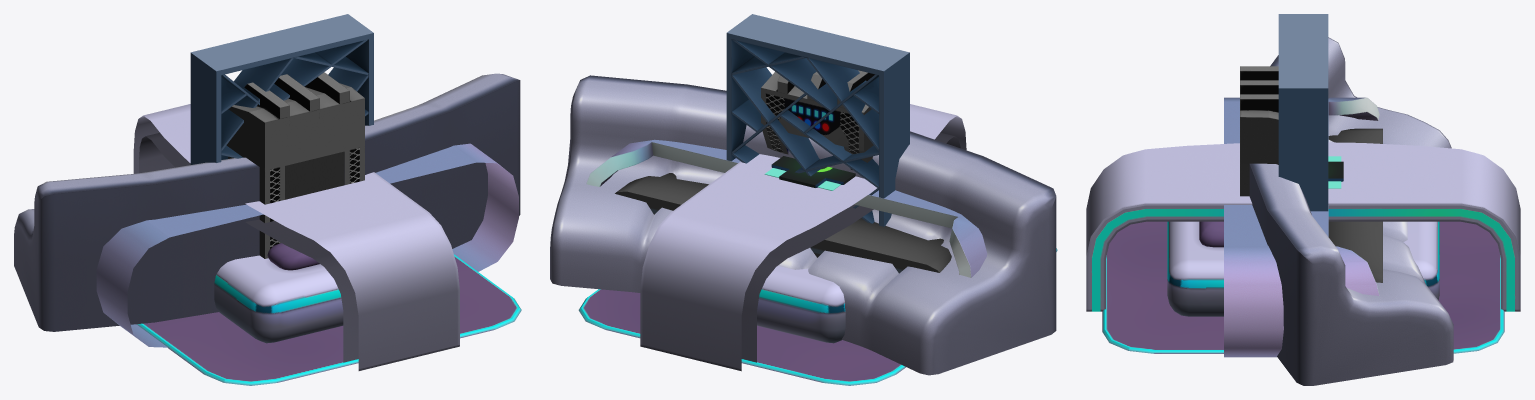
Rendered from Assets_VR.fbx.
3 views of the same model, side by side, from view 1: azimuth 30°, elevation 25°; view 2: azimuth 150°, elevation 25°; view 3: azimuth 270°, elevation 25° (orthographic). The views are drawn at different scales.
Visible parts, largest first — view 1: Sofa, Table, Bookshelves, Foot, Tham, Oxy, Bed; view 2: Sofa, Table, Bookshelves, Oxy, Tham, Bed, Foot, Engine; view 3: Table, Sofa, Tham, Oxy, Bookshelves, Bed, Foot, Engine.
Part boxes in pixels (left/top/right/bottom): Sofa: left=14, top=73, right=520, bottom=331; Table: left=133, top=104, right=459, bottom=370; Bookshelves: left=190, top=14, right=373, bottom=164; Foot: left=226, top=72, right=364, bottom=258; Tham: left=137, top=254, right=521, bottom=385; Oxy: left=96, top=143, right=518, bottom=347; Bed: left=214, top=243, right=343, bottom=343; Sofa: left=550, top=75, right=1056, bottom=375; Table: left=640, top=104, right=966, bottom=371; Bookshelves: left=726, top=14, right=909, bottom=226; Oxy: left=586, top=139, right=987, bottom=277; Tham: left=578, top=248, right=1057, bottom=385; Bed: left=757, top=265, right=845, bottom=343; Foot: left=761, top=70, right=874, bottom=170; Engine: left=764, top=156, right=855, bottom=190; Table: left=1086, top=142, right=1520, bottom=311; Sofa: left=1249, top=37, right=1453, bottom=385; Tham: left=1102, top=221, right=1504, bottom=353; Oxy: left=1224, top=97, right=1382, bottom=357; Bookshelves: left=1278, top=14, right=1328, bottom=211; Bed: left=1167, top=221, right=1439, bottom=316; Foot: left=1240, top=66, right=1278, bottom=196; Engine: left=1328, top=156, right=1343, bottom=188.
Size of the model in its own units: 456 by 220 by 372.
3 materials, 3 textured.
